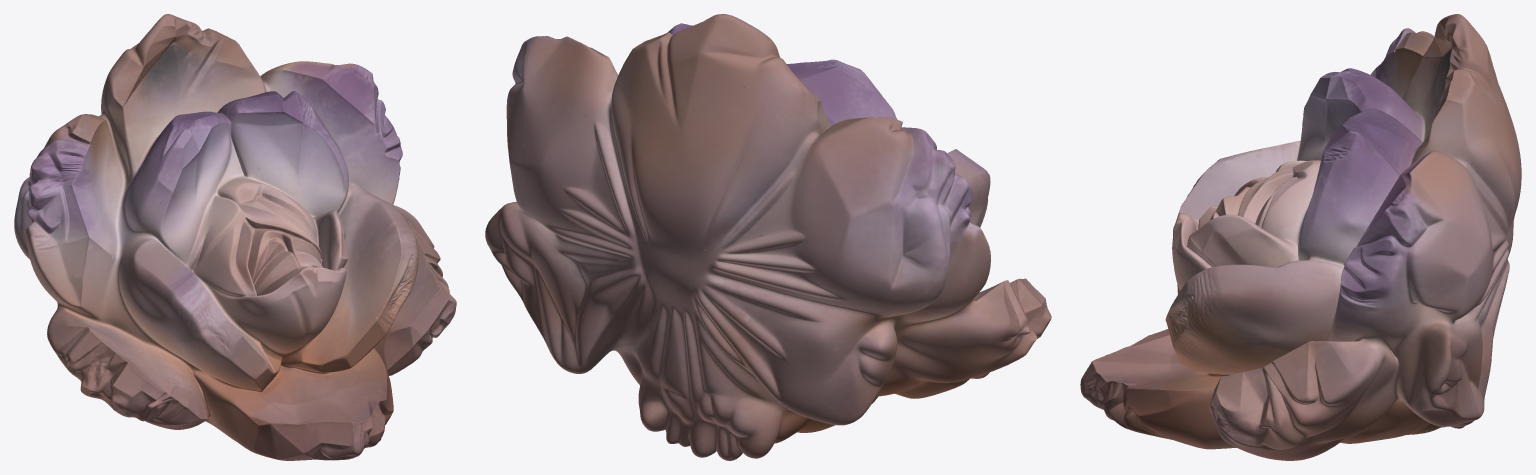
3 views of the same model, side by side, from view 1: azimuth 30°, elevation 25°; view 2: azimuth 150°, elevation 25°; view 3: azimuth 270°, elevation 25° (orthographic). The views are drawn at different scales.
Visible parts, largest first — view 1: node_0; view 2: node_0; view 3: node_0.
Boxes of the visible parts, bbox=[...] form: node_0: bbox=[14, 14, 456, 460]; node_0: bbox=[485, 14, 1051, 460]; node_0: bbox=[1080, 14, 1521, 460].
Bounding box in the file's own units: 1.05 × 0.9481 × 0.9348.
Materials: 1 (1 with a texture image).
